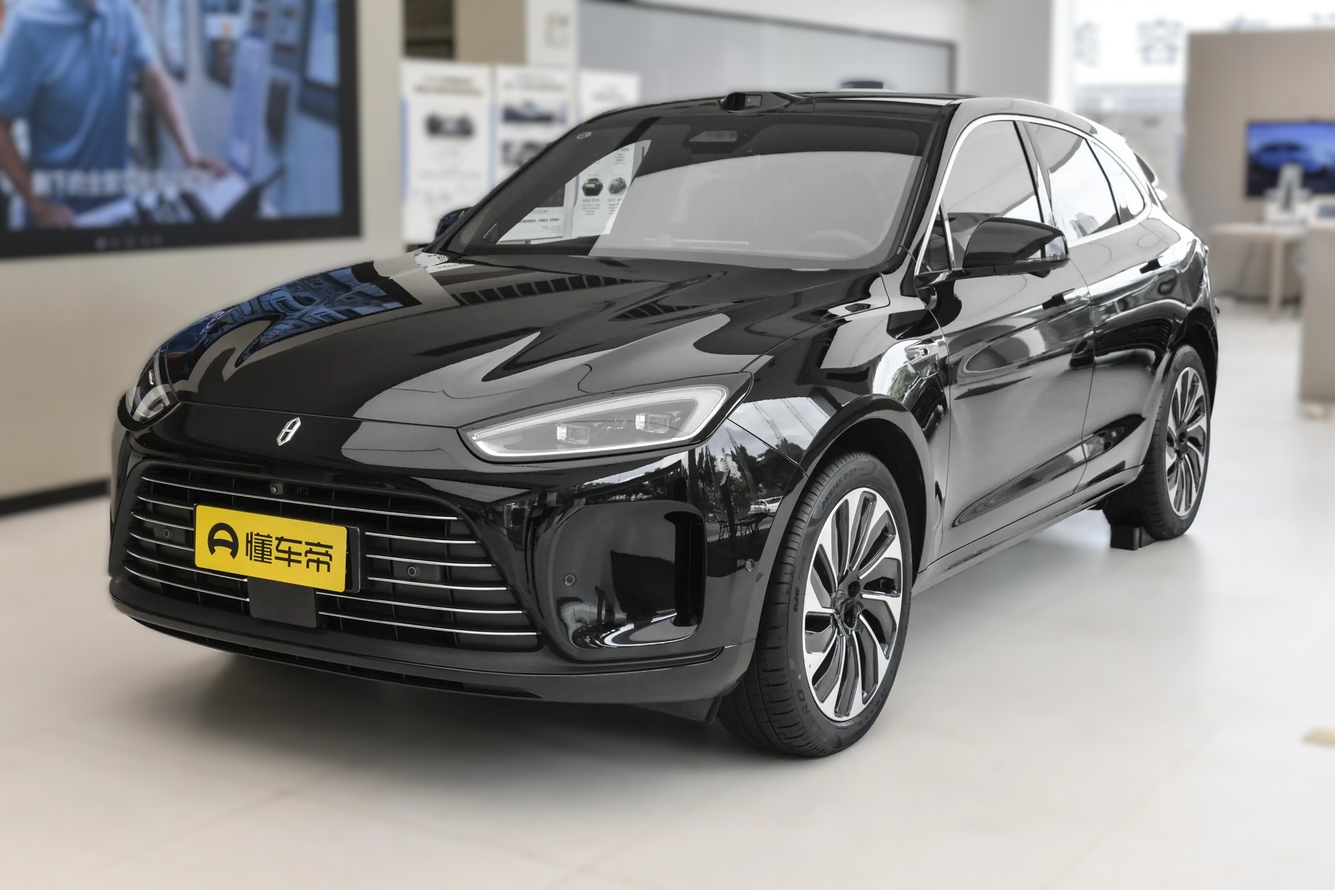AITO: (277, 418, 301, 445)
